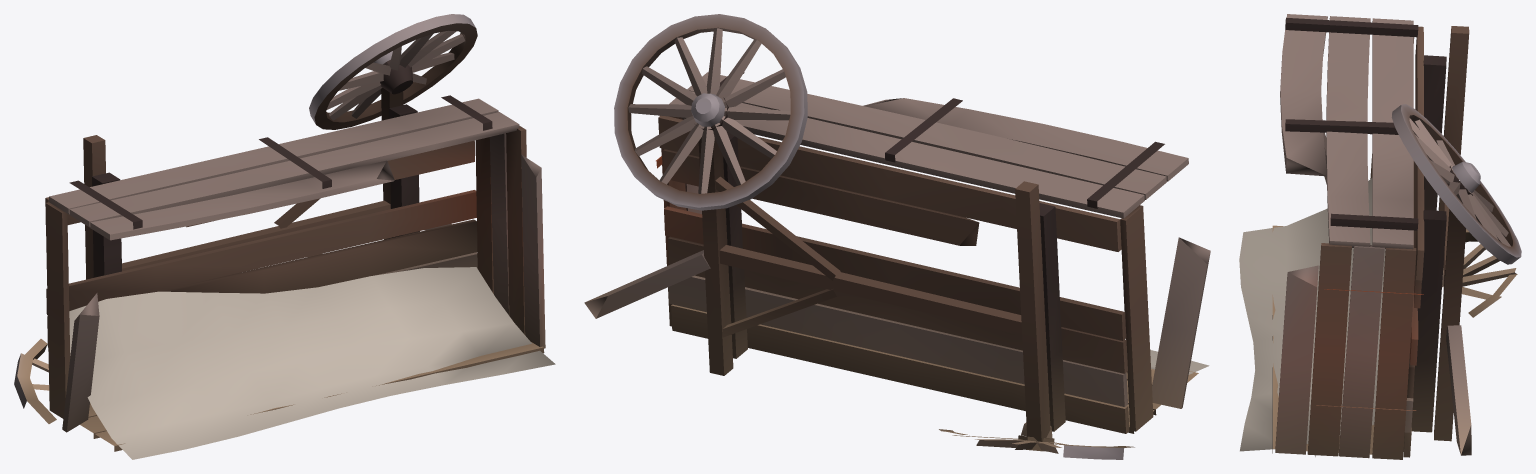
Rendered from prop_wagon_tipped.glb.
The picture shows the model from 3 angles, left to right: view 1: azimuth 30°, elevation 25°; view 2: azimuth 150°, elevation 25°; view 3: azimuth 270°, elevation 25°; orthographic projection. The views are drawn at different scales.
Parts seen in each view (by area): view 1: prop_wagon_tipped_mesh; view 2: prop_wagon_tipped_mesh; view 3: prop_wagon_tipped_mesh.
Boxes of the visible parts, left/top/right/bottom form: prop_wagon_tipped_mesh: left=14, top=14, right=555, bottom=459; prop_wagon_tipped_mesh: left=584, top=14, right=1210, bottom=459; prop_wagon_tipped_mesh: left=1239, top=14, right=1521, bottom=459.
Bounding box in the file's own units: 3.76 × 2.24 × 1.75.
